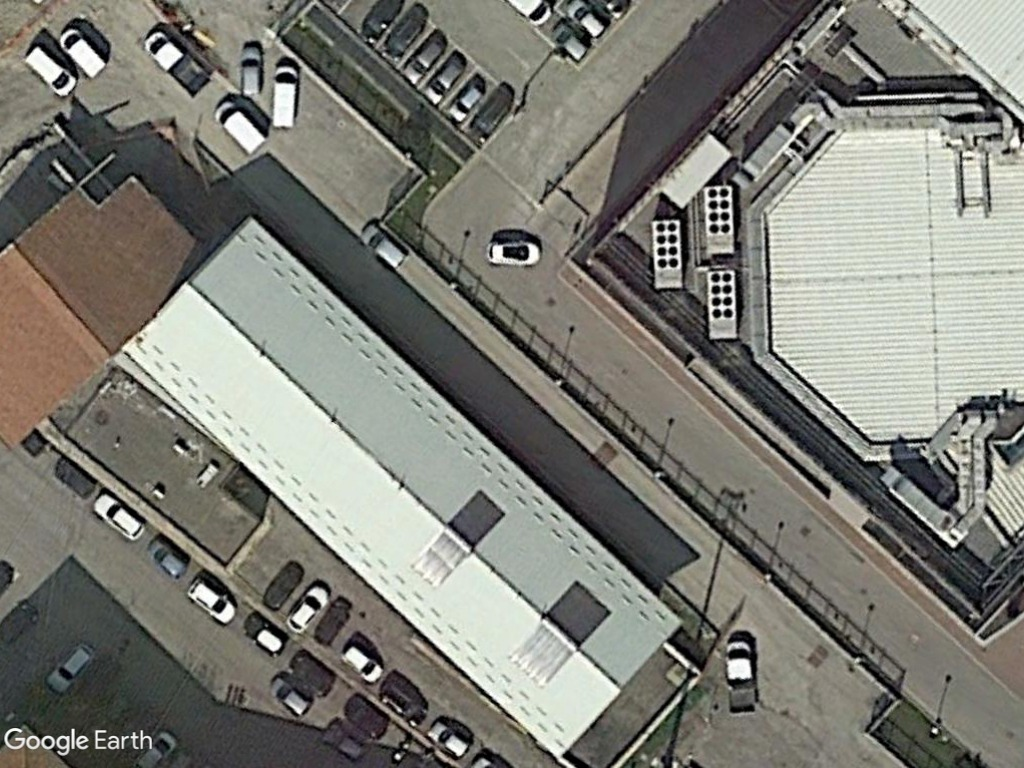car: (279, 573, 334, 640), (184, 571, 242, 634), (418, 47, 473, 111), (88, 488, 148, 545), (354, 216, 410, 275), (41, 640, 97, 699), (397, 27, 452, 87), (257, 558, 313, 614), (266, 668, 316, 724), (145, 536, 195, 588), (423, 714, 477, 762), (240, 607, 286, 662), (340, 638, 388, 688), (445, 76, 488, 128), (543, 20, 591, 65), (482, 237, 543, 270), (235, 39, 266, 100)
other: (142, 23, 213, 101), (721, 634, 762, 721)
van: (213, 97, 269, 159), (52, 21, 109, 81), (20, 44, 78, 101), (270, 61, 305, 135)
